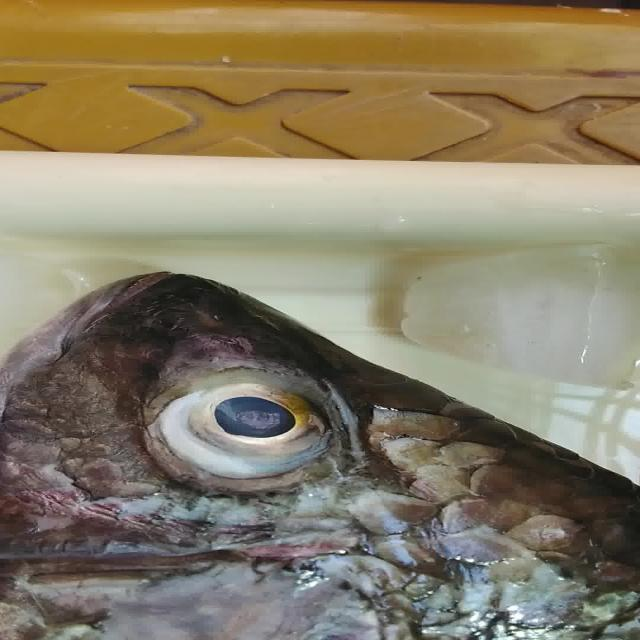Fresh: (98, 342, 430, 519)
